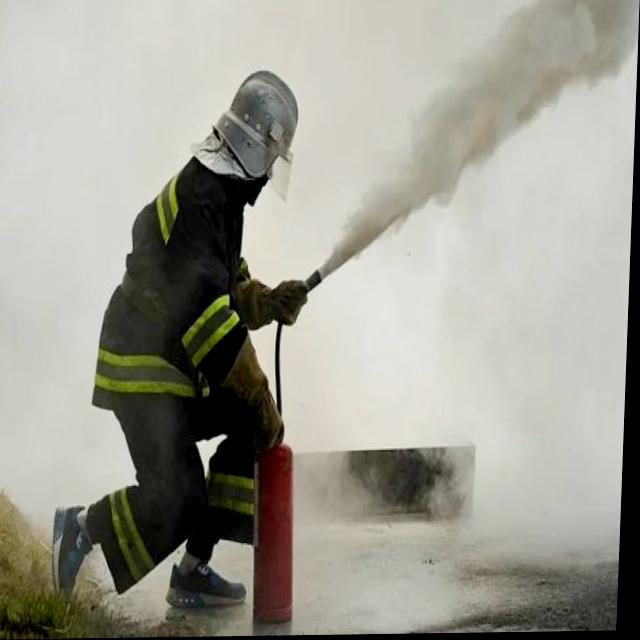FireExtinguisher: (245, 260, 330, 627)
